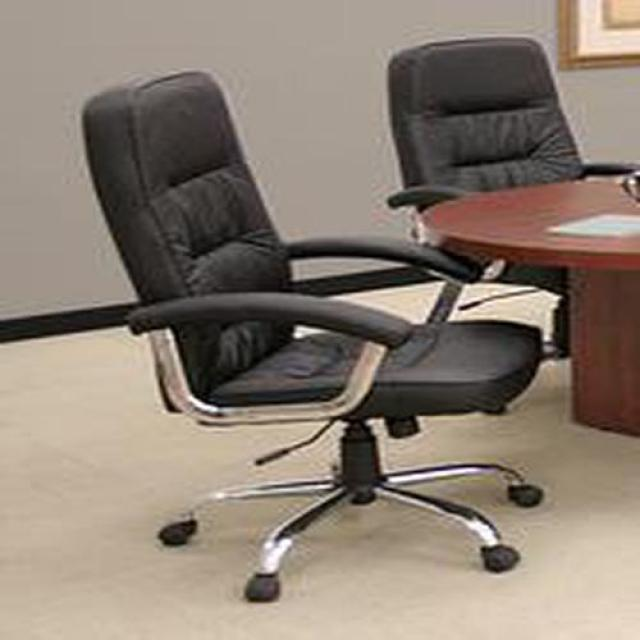swivelchair: (81, 70, 544, 604)
